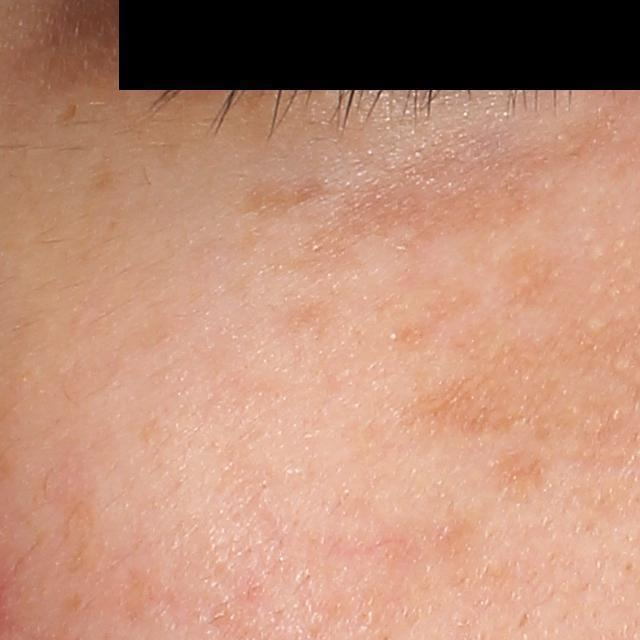melasma: (400, 368, 525, 435), (501, 241, 567, 308), (245, 170, 334, 215), (489, 451, 547, 509), (83, 153, 115, 196), (55, 104, 78, 131)
